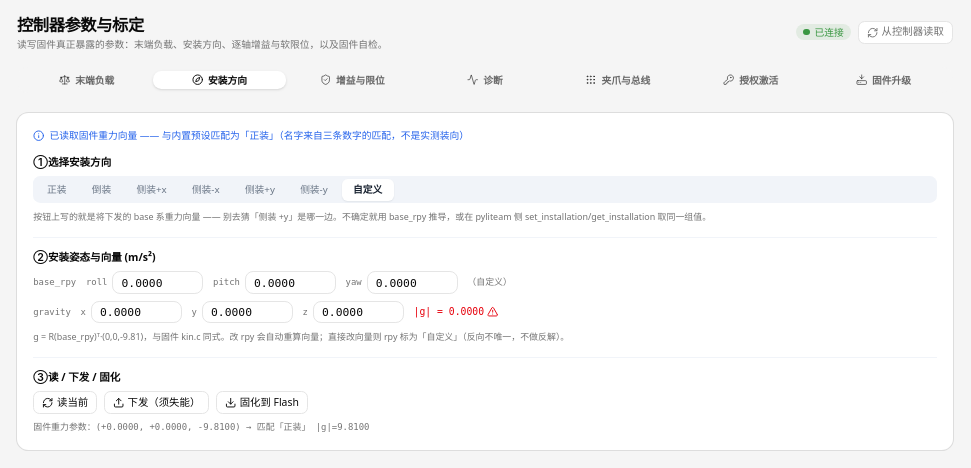
Scenario: SettingsPage — installation direction › reads the current direction on demand, without touching the other tabs
Expected: the text "已读取固件重力向量 —— 与内置预设匹配为「正装」（名字来自三条数字的匹配，不是实测装向）" is shown, [33, 129, 469, 142]
Click the button "读当前" at (65, 403), box [33, 391, 97, 414]
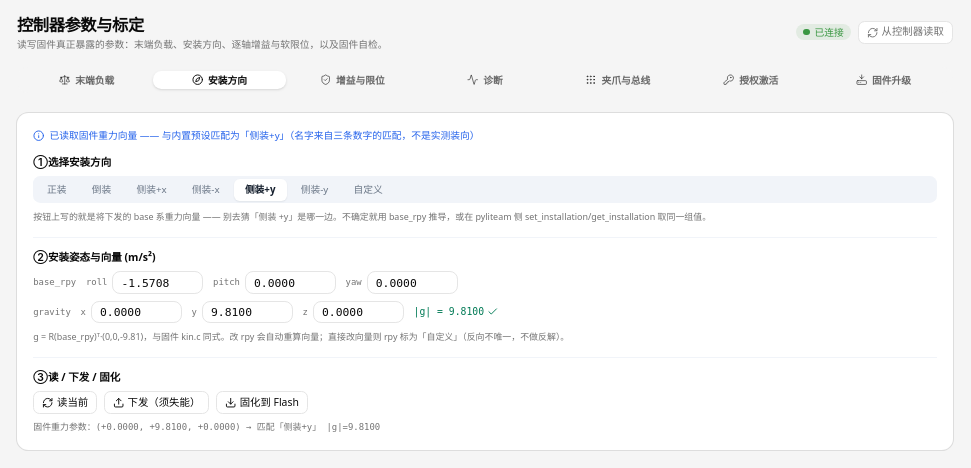
Result: the number field showing "9.8100" is shown at [202, 301, 293, 323]
Result: the text "已读取固件重力向量 —— 与内置预设匹配为「侧装+y」（名字来自三条数字的匹配，不是实测装向）" is shown at [33, 129, 480, 142]
